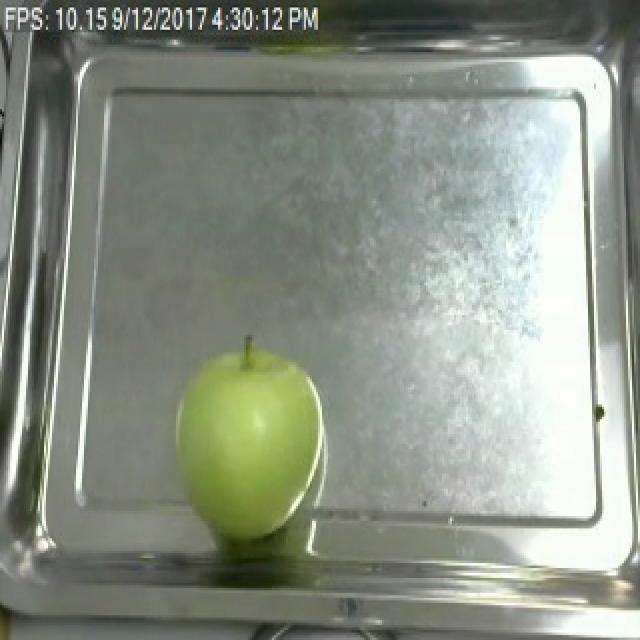50-_ripeness: (176, 326, 320, 551)
